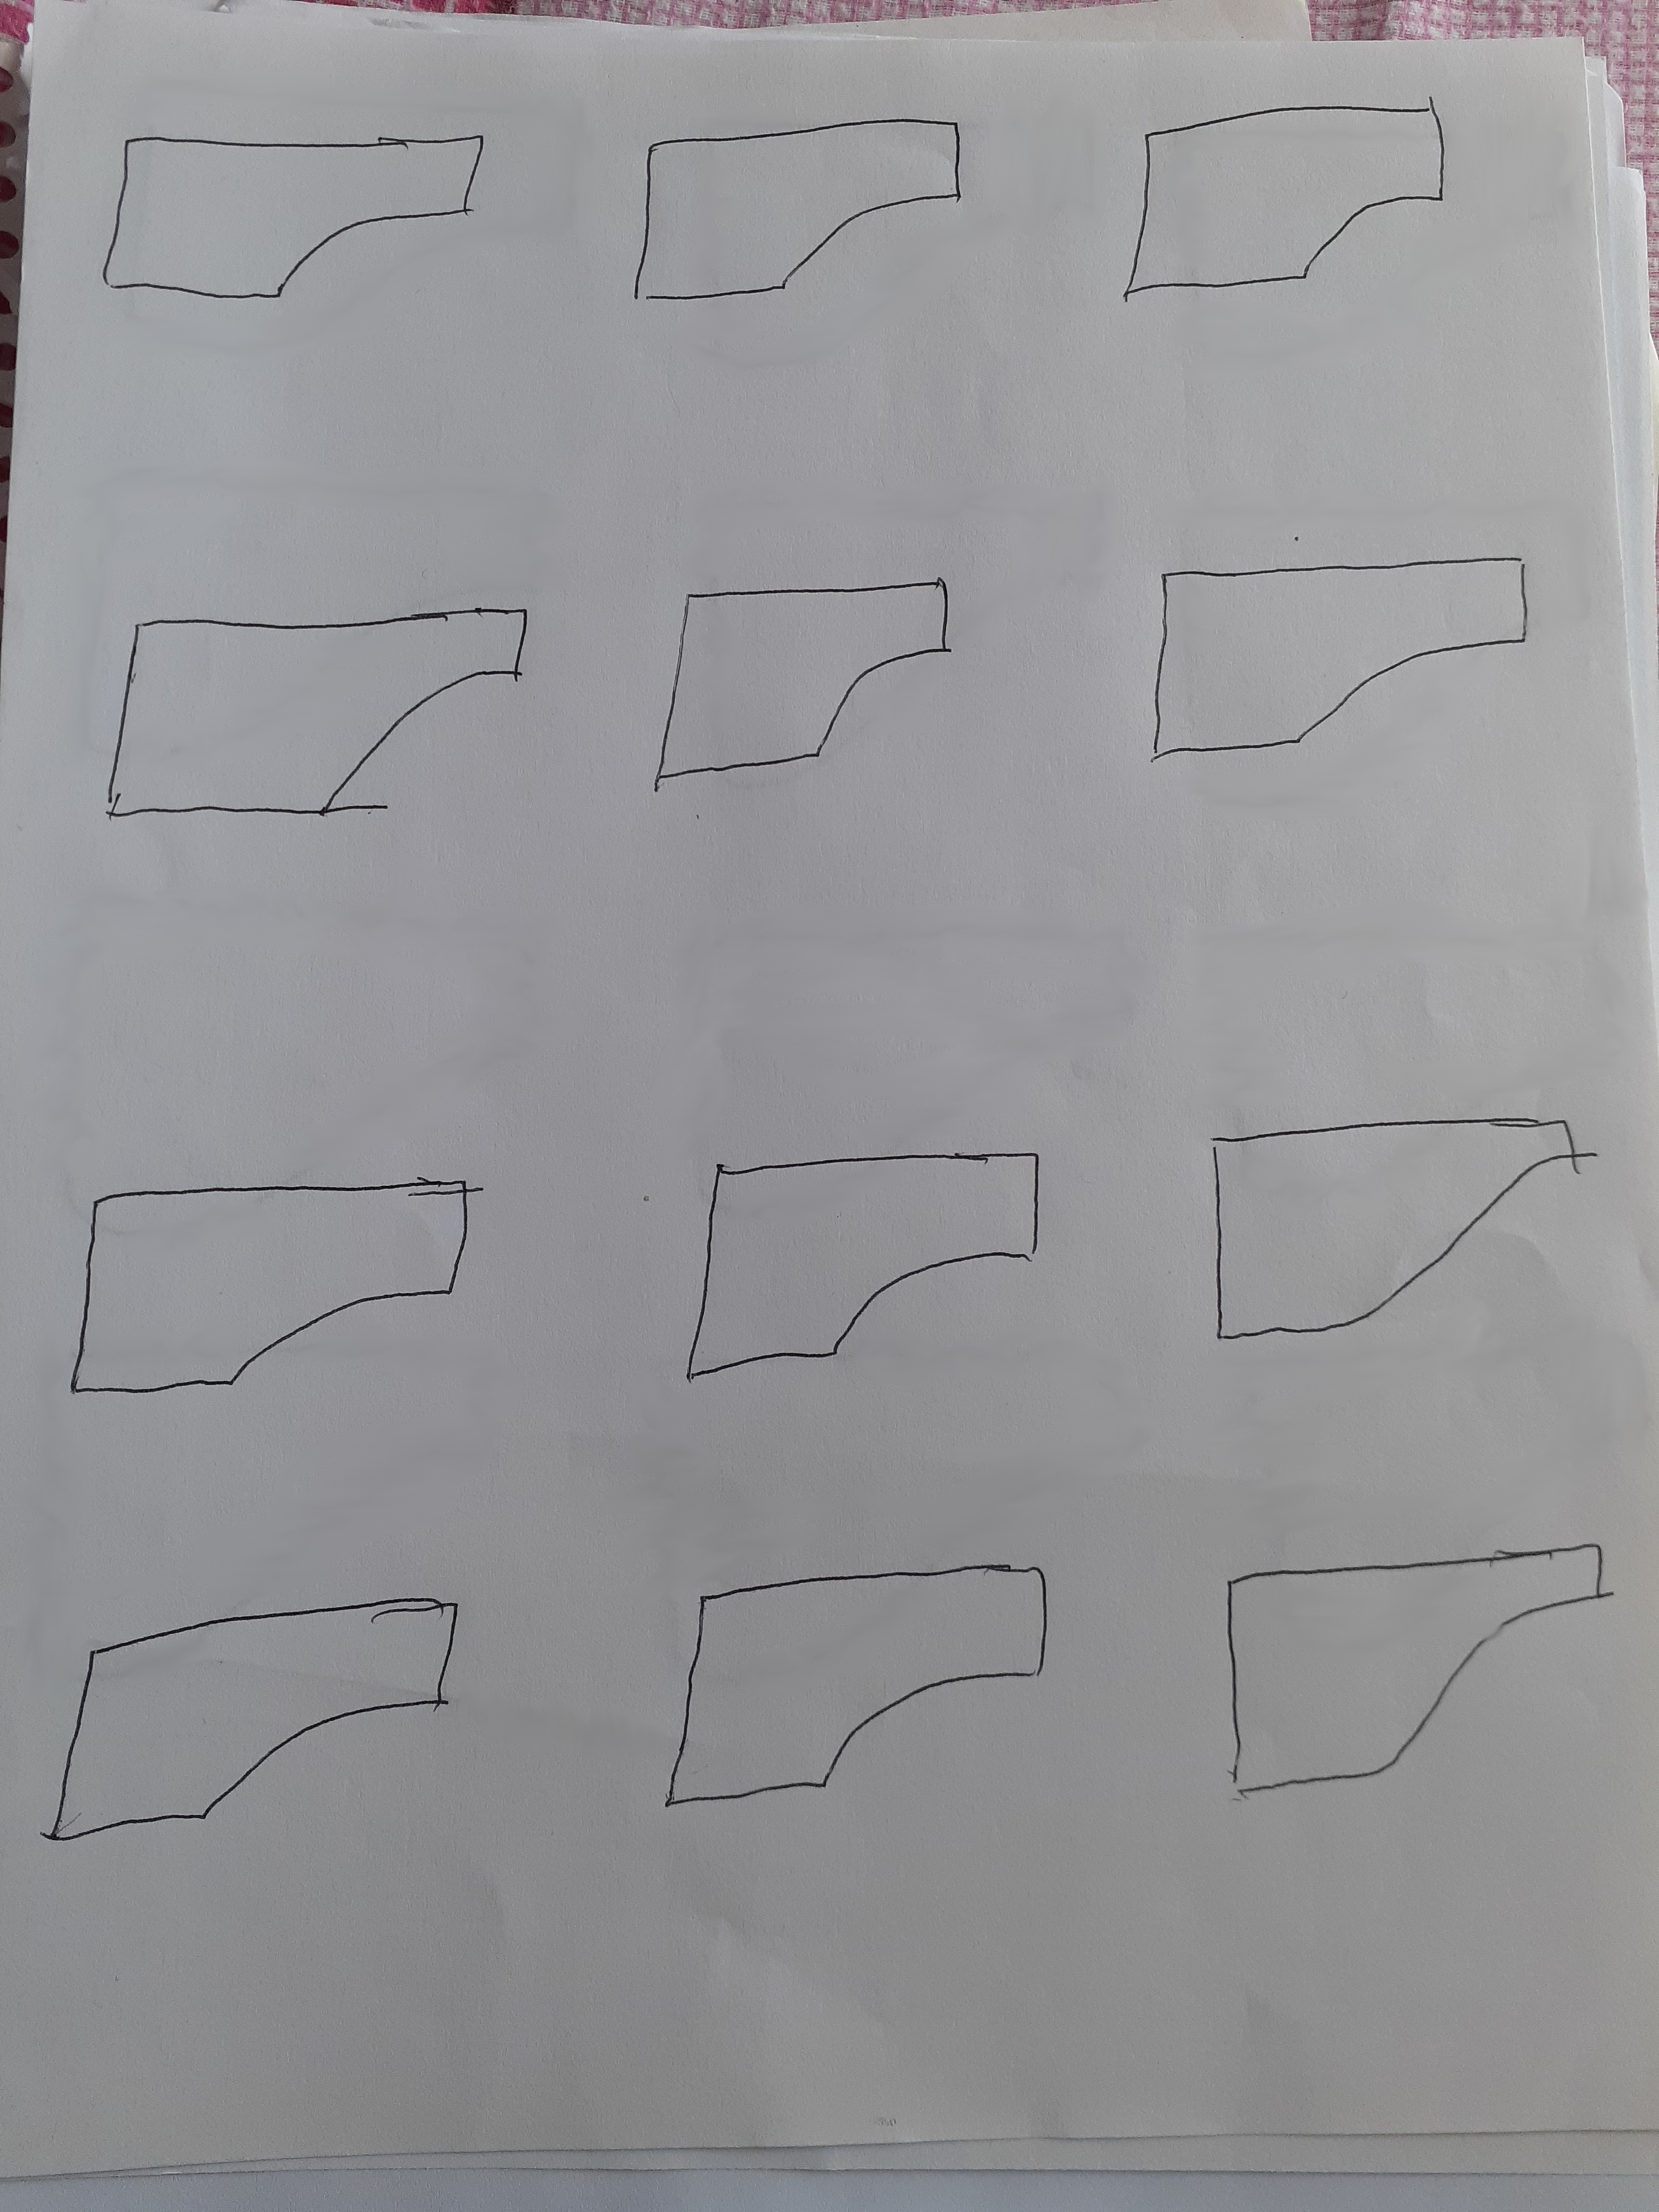print: (45, 1120, 512, 1475), (61, 540, 559, 866), (17, 1573, 502, 1879), (671, 1099, 1089, 1432), (1190, 1062, 1617, 1378), (1204, 1503, 1631, 1818), (638, 1543, 1065, 1848), (634, 540, 1014, 841), (1126, 550, 1563, 777), (85, 99, 530, 320), (1101, 99, 1474, 329), (613, 99, 997, 320)
